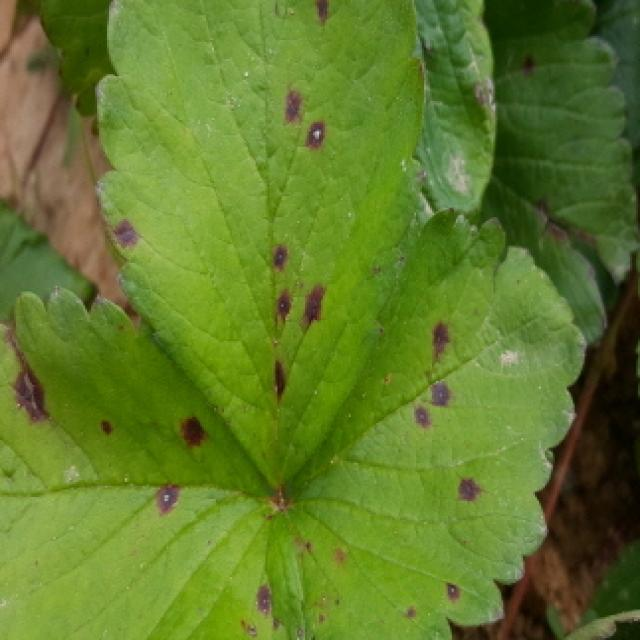Leaf Spot: (93, 0, 426, 493), (278, 207, 588, 640), (0, 285, 304, 640), (480, 0, 640, 344)
